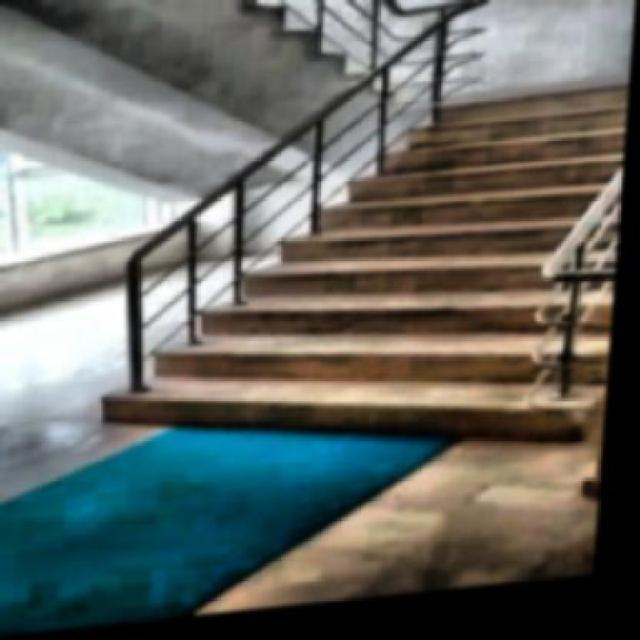stair: (75, 79, 631, 488)
